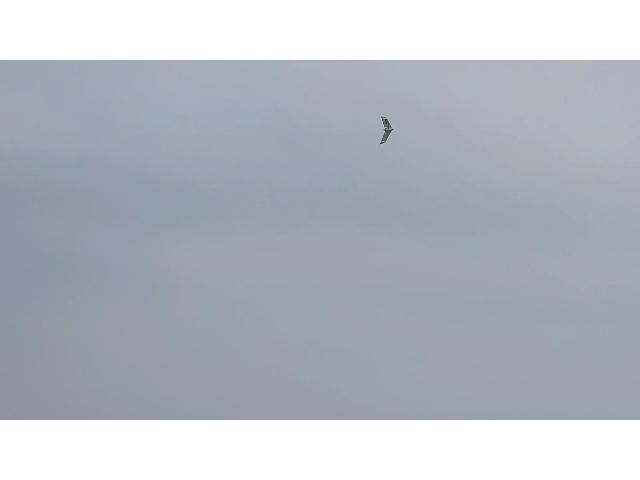Anti-Drone: (380, 114, 394, 146)
